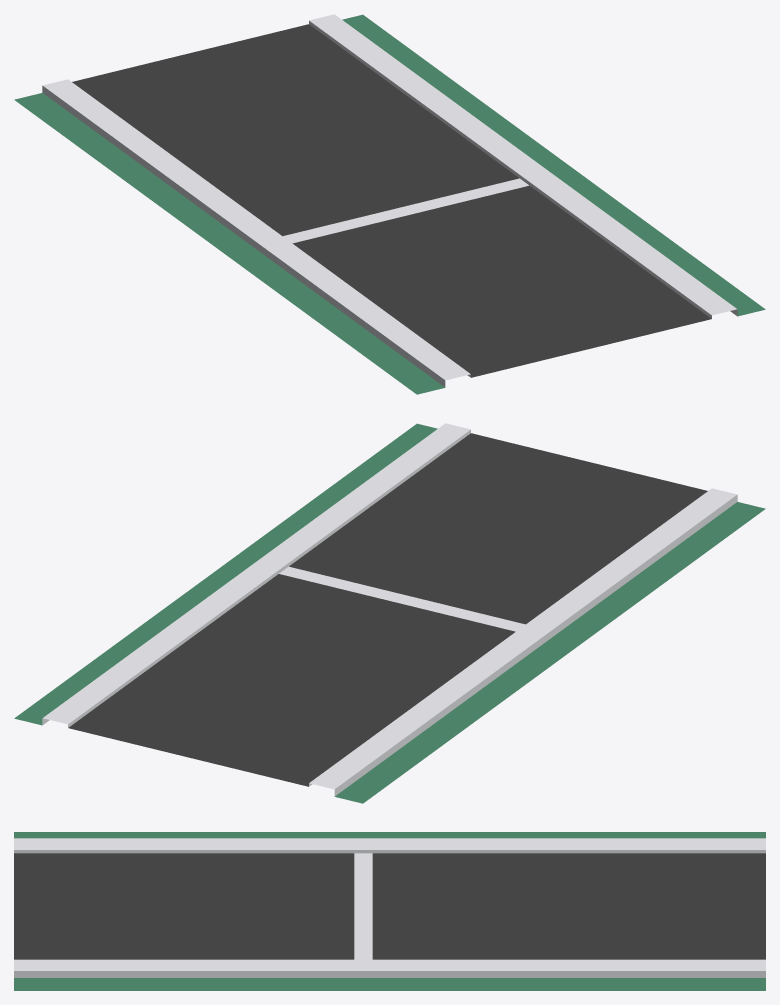
File: roadStart.fbx
The picture shows the model from 3 angles, top to bottom: view 1: azimuth 30°, elevation 25°; view 2: azimuth 150°, elevation 25°; view 3: azimuth 270°, elevation 25°; orthographic projection. The views are drawn at different scales.
Parts seen in each view (by area): view 1: roadStart; view 2: roadStart; view 3: roadStart.
Part boxes in pixels (bbox=[...]): roadStart: bbox=[14, 14, 765, 394]; roadStart: bbox=[14, 423, 765, 803]; roadStart: bbox=[14, 832, 765, 990].
Bounding box in the file's own units: 394 × 7.87 × 787.
